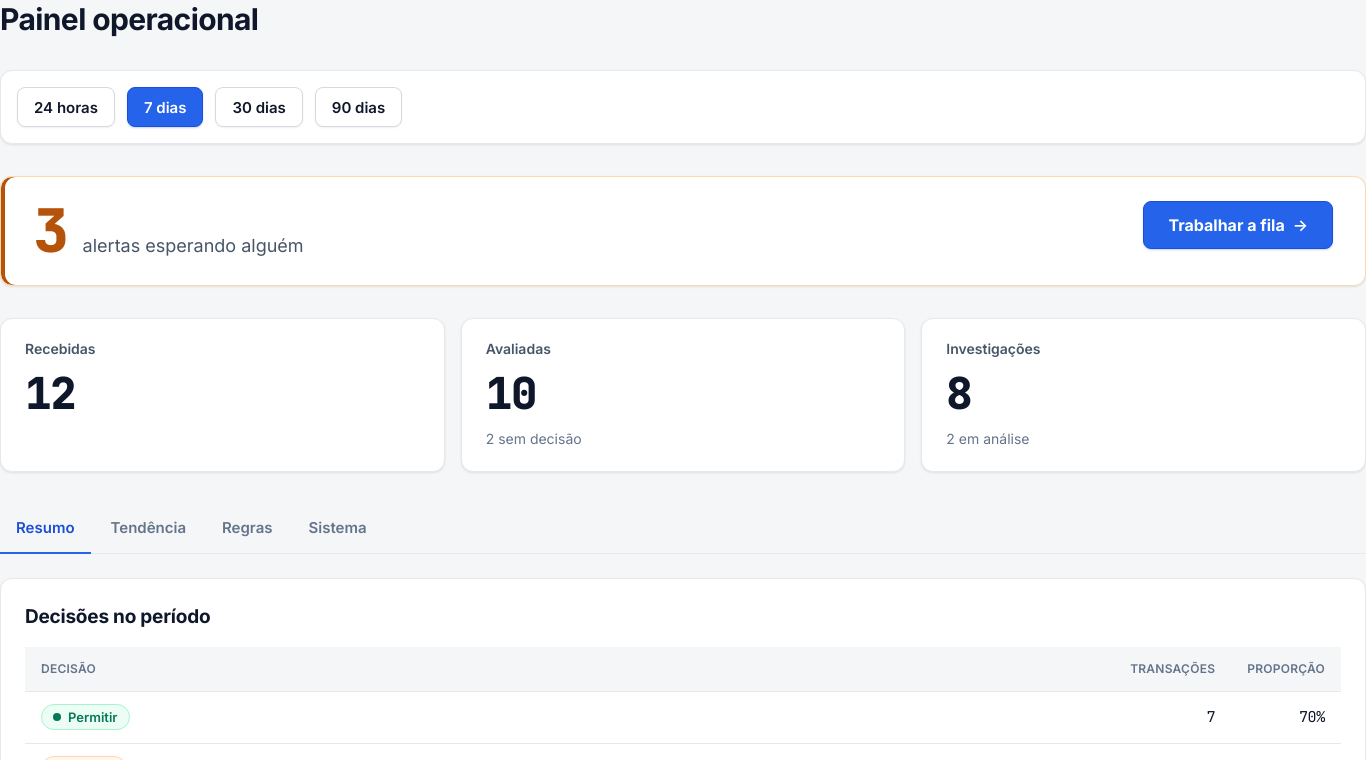
Test: painel operacional › separa o que chegou do que foi decidido
Expected: the text "12" is shown, [25, 364, 76, 422]
Expected: the text "10" is shown, [486, 364, 536, 422]
Click the tab "Sistema": click(338, 529) [292, 504, 383, 554]
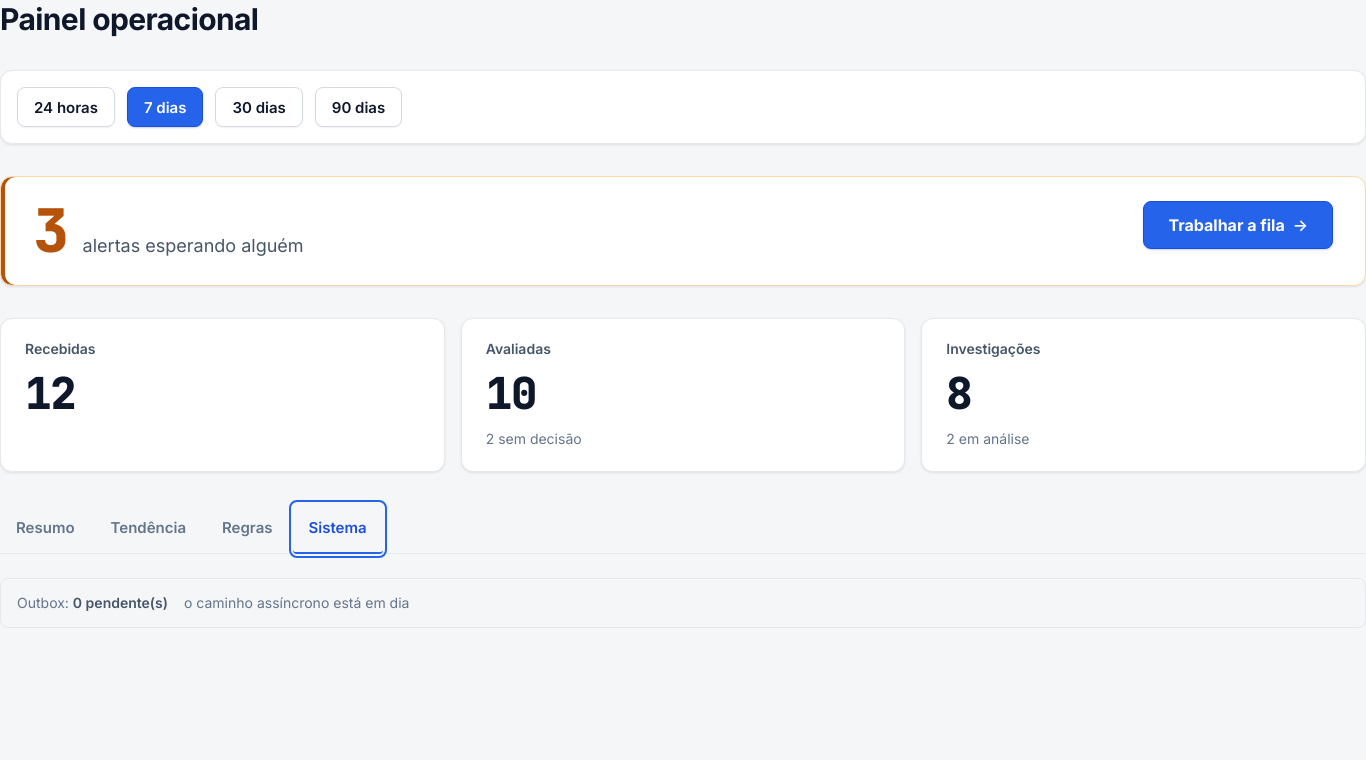
Expected: the text "o caminho assíncrono está em dia" is shown, [184, 591, 409, 615]
